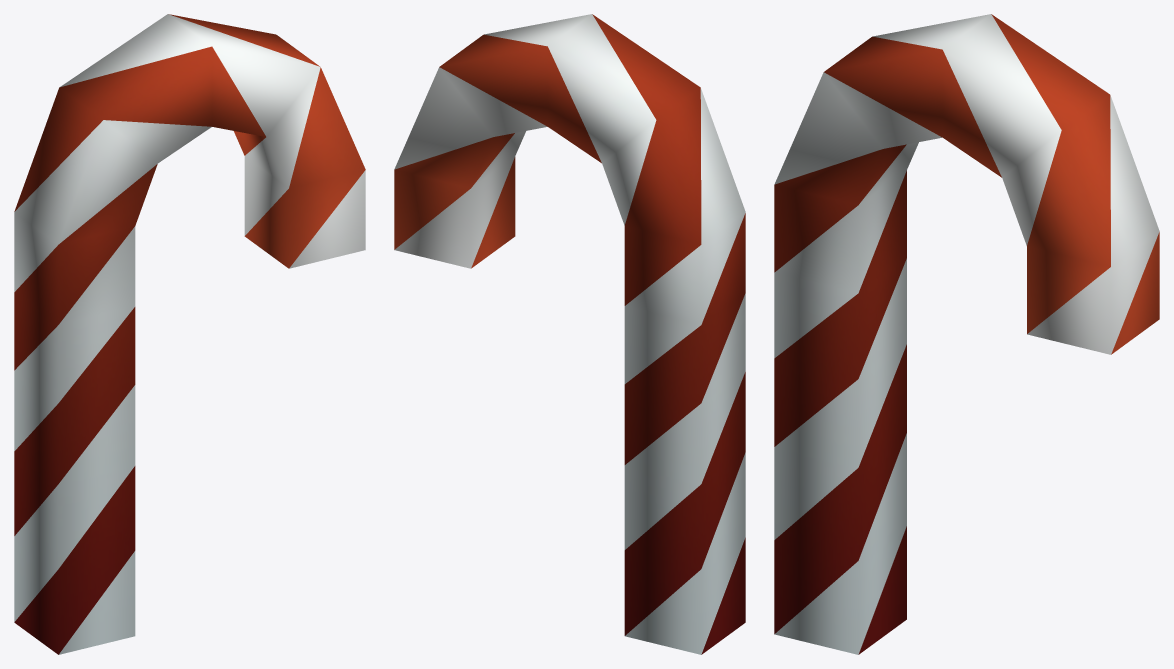
Rendered from candy_cane.fbx.
3 renders of one model, left to right at view 1: azimuth 30°, elevation 25°; view 2: azimuth 150°, elevation 25°; view 3: azimuth 330°, elevation 25°, orthographic. The views are drawn at different scales.
Parts seen in each view (by area): view 1: candy_cane; view 2: candy_cane; view 3: candy_cane.
Part boxes in pixels (left/top/right/bottom): candy_cane: left=14, top=14, right=365, bottom=654; candy_cane: left=394, top=14, right=745, bottom=654; candy_cane: left=774, top=14, right=1159, bottom=654.
Size of the model in its own units: 60.89 by 108 by 15.22.
Materials: 1 (1 with a texture image).
